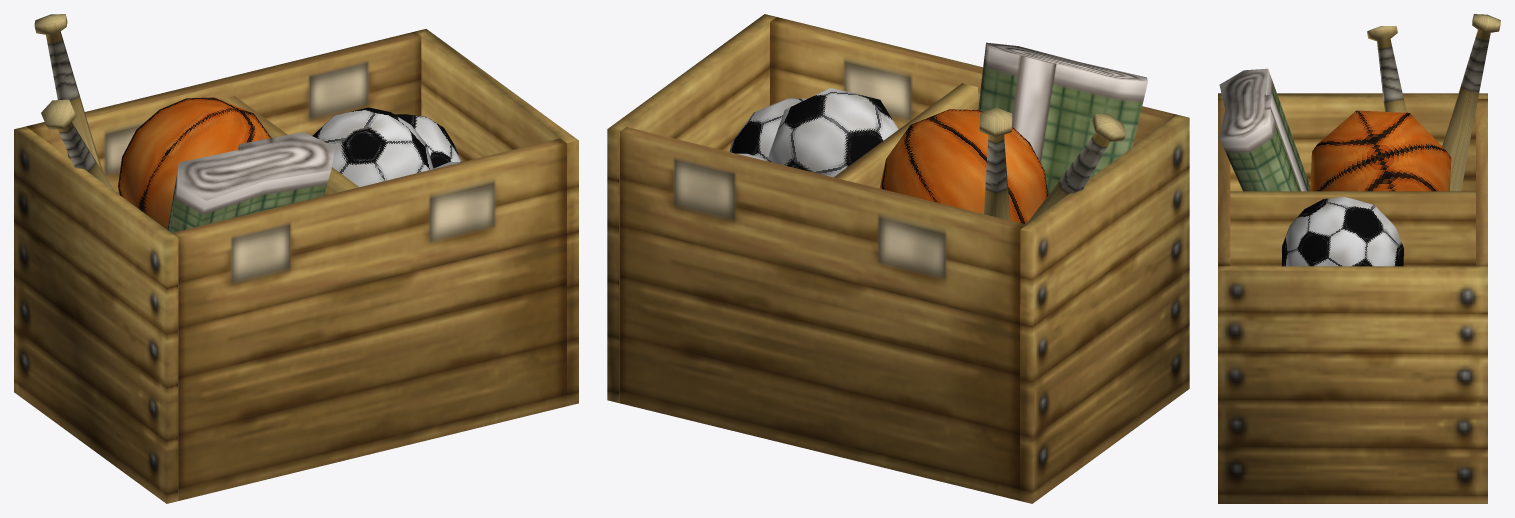
The model's file is a_SWIsport01.glb.
3 views of the same model, side by side, from view 1: azimuth 30°, elevation 25°; view 2: azimuth 150°, elevation 25°; view 3: azimuth 270°, elevation 25° (orthographic). The views are drawn at different scales.
Visible parts, largest first — view 1: a_SWIsport01; view 2: a_SWIsport01; view 3: a_SWIsport01.
Boxes of the visible parts, x1,y1,x2,y2 form: a_SWIsport01: [14, 14, 578, 503]; a_SWIsport01: [607, 14, 1189, 503]; a_SWIsport01: [1218, 14, 1500, 503].
Size of the model in its own units: 1.22 by 0.9677 by 0.7612.
Materials: 4 (4 with a texture image).
